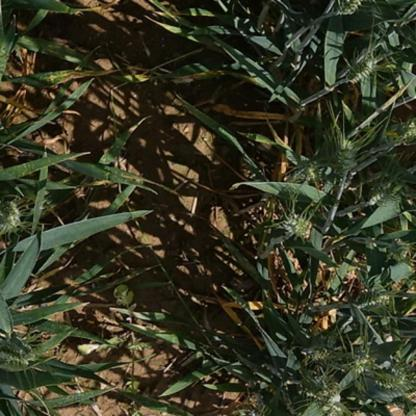whd: (327, 133, 363, 179), (303, 382, 348, 416), (349, 285, 400, 315), (342, 46, 382, 84), (366, 365, 411, 398), (369, 170, 407, 209), (279, 208, 312, 241), (338, 348, 374, 376), (380, 235, 412, 264), (3, 344, 29, 372), (396, 115, 416, 150), (303, 347, 331, 371), (2, 200, 24, 230), (290, 156, 316, 180), (334, 0, 361, 17)
